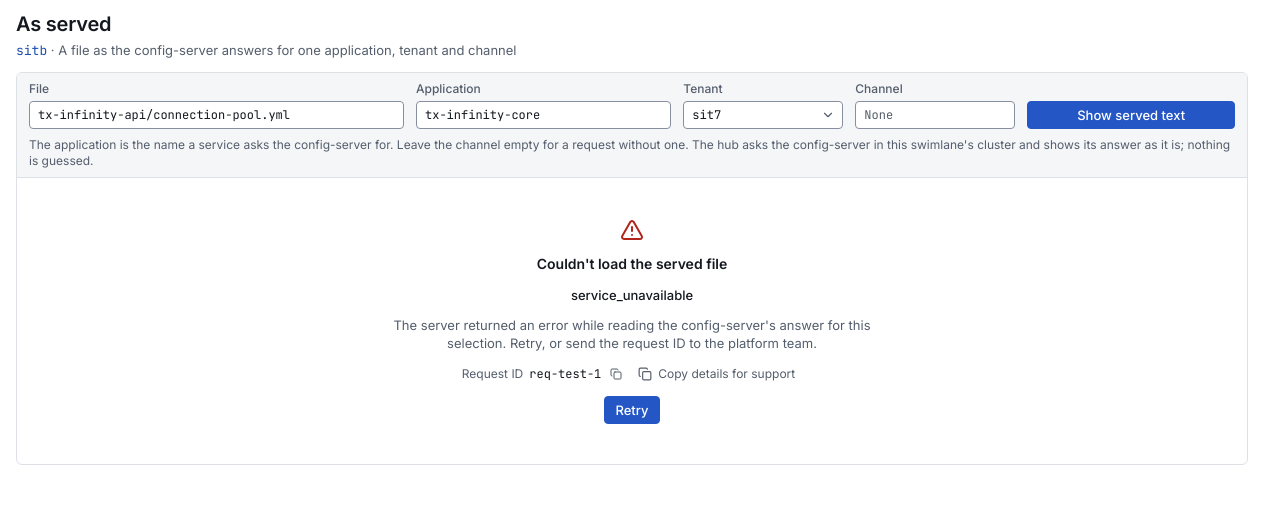
what it shows › does not retry a 503 by itself: it shows the error at once with Retry, and Retry asks again and shows the text
Expected: the heading "Couldn't load the served file" is shown, [537,254,727,274]
Expected: the text "req-test-1" is shown, [529,366,601,382]
Step 1. Click the button "Retry" → (632, 410), box [604,396,660,424]
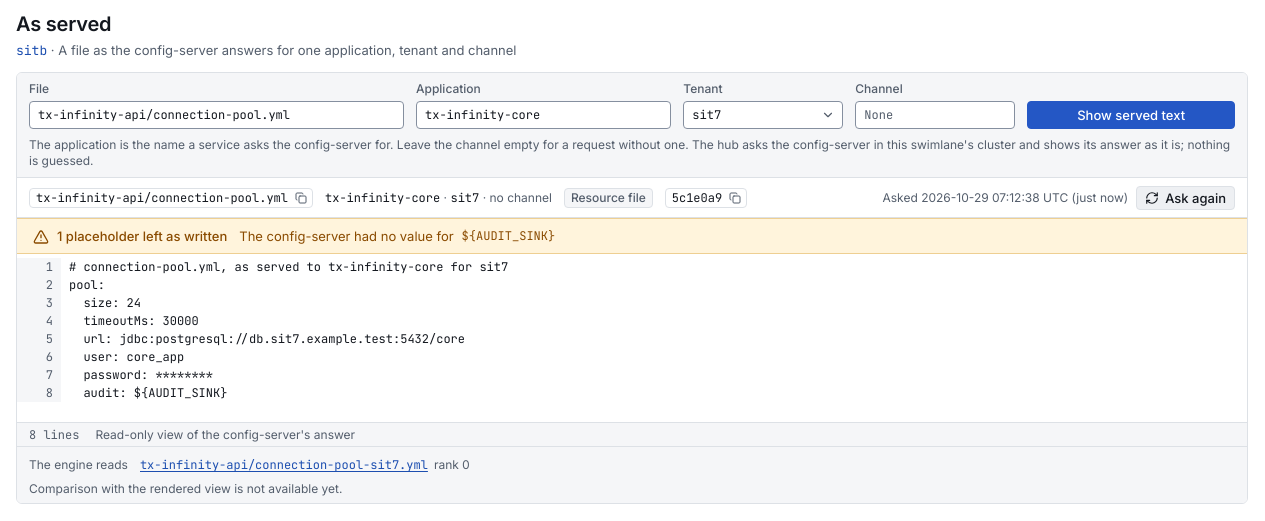
Expected: the table named "Served text" is shown, [17,258,508,402]
